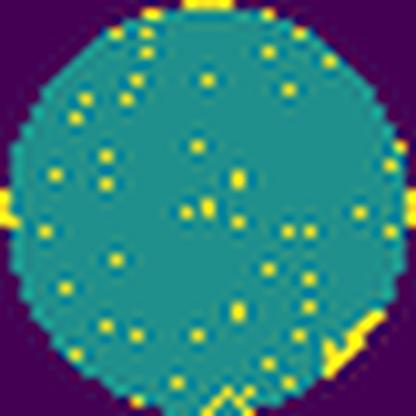Edge-Loc: (316, 304, 390, 380)
